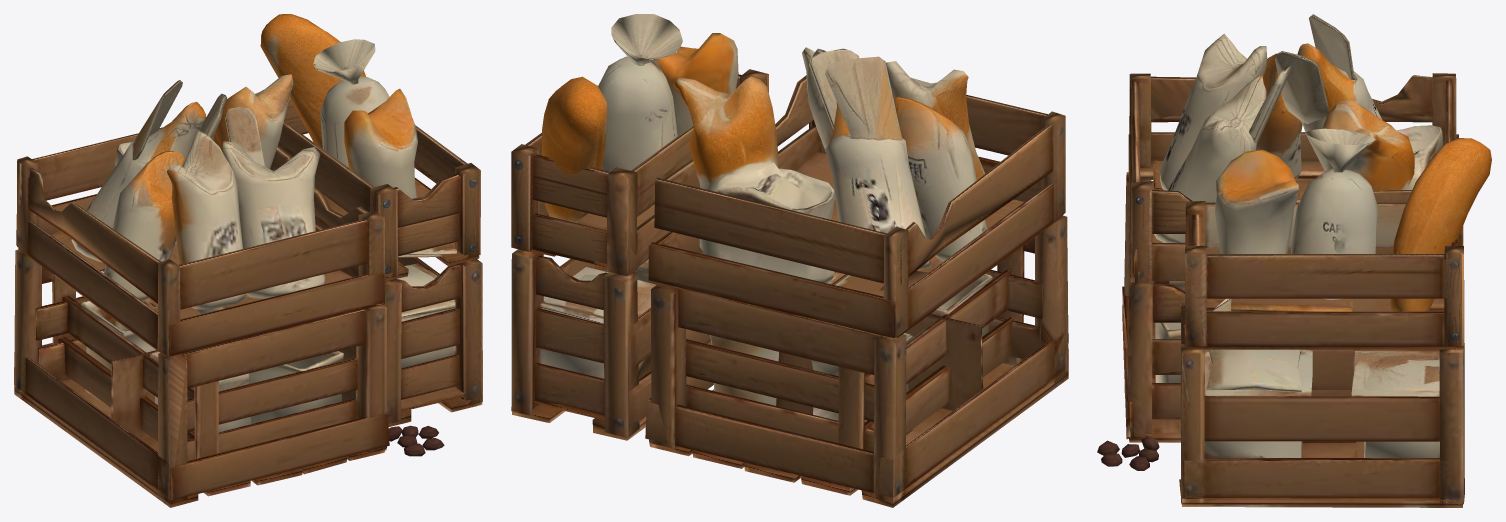
File: crate-stack.glb
The picture shows the model from 3 angles, left to right: view 1: azimuth 30°, elevation 25°; view 2: azimuth 150°, elevation 25°; view 3: azimuth 270°, elevation 25°; orthographic projection. The views are drawn at different scales.
Size of the model in its own units: 1 by 0.9356 by 0.9337.
1 material, 1 textured.
